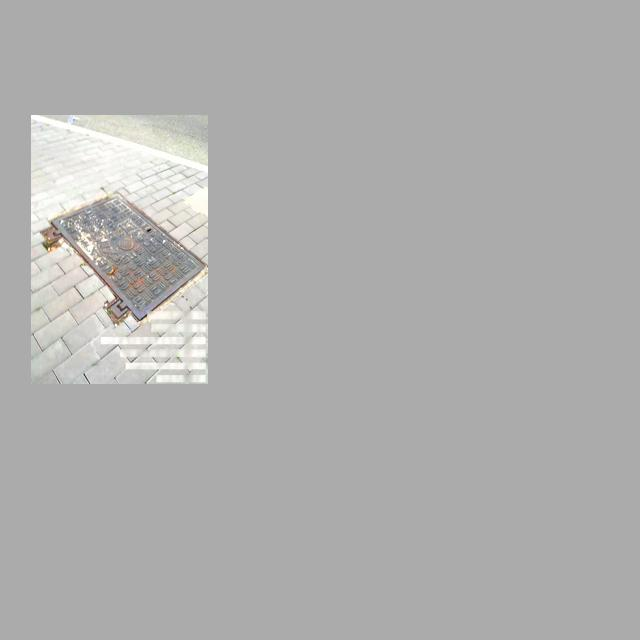good: (50, 184, 207, 318)
